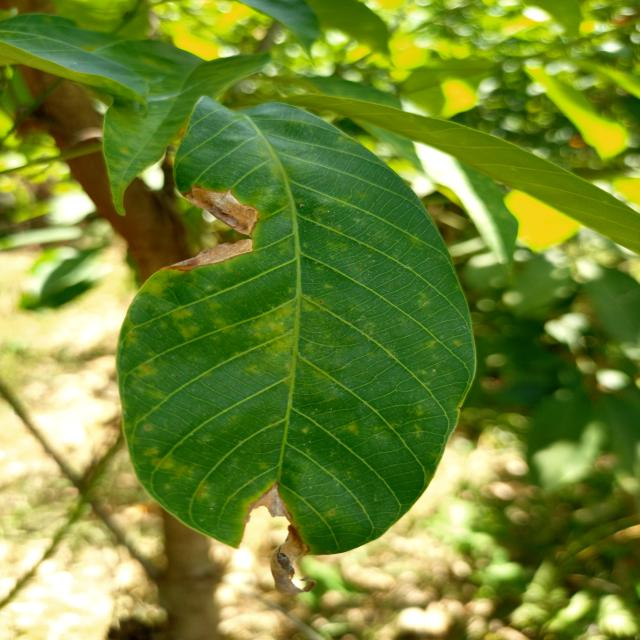Leaf-Blight: (183, 184, 257, 235), (270, 523, 316, 596), (160, 238, 254, 271), (246, 484, 293, 523)
